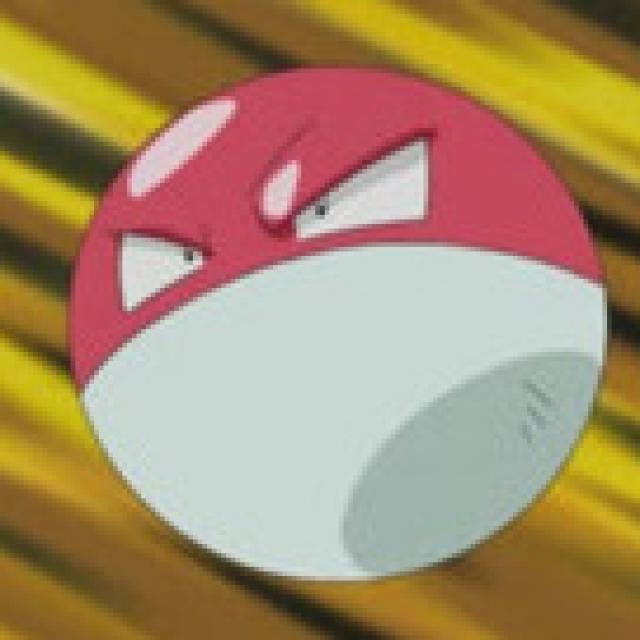Voltorb: (70, 63, 612, 582)
